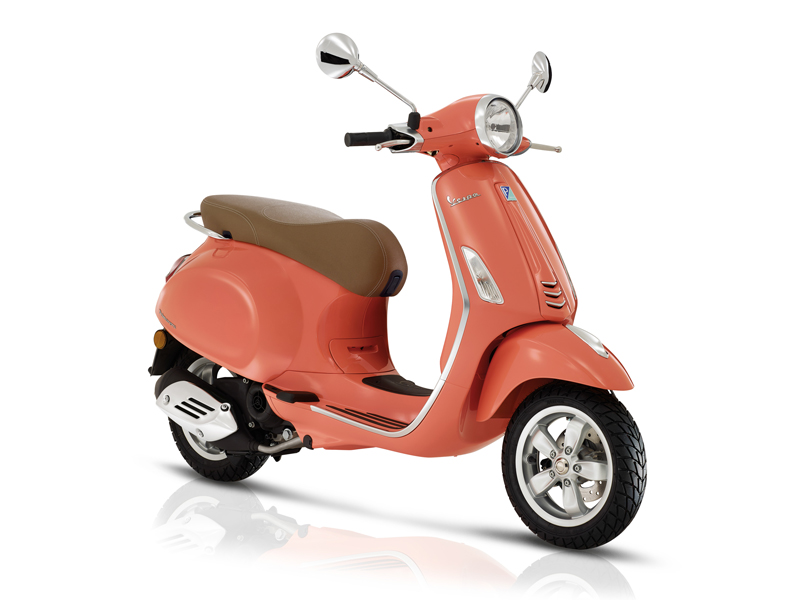motorcycle: (145, 35, 706, 539)
